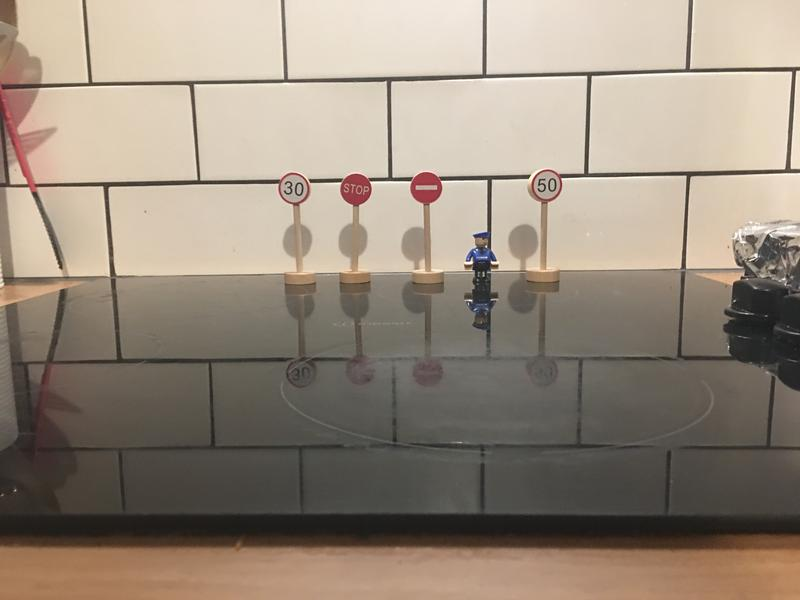Traffic_Sign_30: (279, 173, 311, 204)
Traffic_Sign_50: (533, 169, 561, 203)
Traffic_Sign_No_Entry: (411, 172, 442, 203)
Traffic_Sign_Stop: (341, 173, 370, 206)
person: (463, 231, 498, 287)
